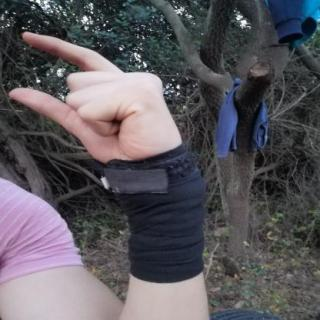DELL: (2, 23, 196, 174)
